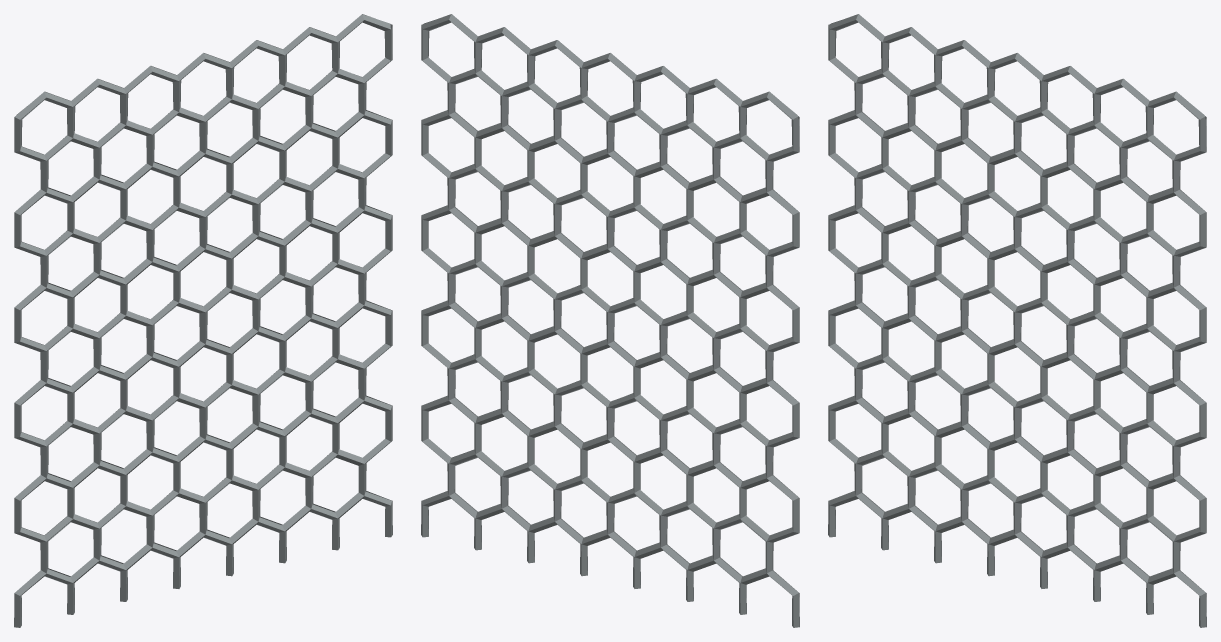
The model's file is MetalGrid.fbx.
3 views of the same model, side by side, from view 1: azimuth 30°, elevation 25°; view 2: azimuth 150°, elevation 25°; view 3: azimuth 330°, elevation 25° (orthographic).
Visible parts, largest first — view 1: Grille mesh; view 2: Grille mesh; view 3: Grille mesh.
Part boxes in pixels (left/top/right/bottom): Grille mesh: left=14, top=14, right=392, bottom=627; Grille mesh: left=421, top=14, right=799, bottom=627; Grille mesh: left=828, top=14, right=1206, bottom=627.
Size of the model in its own units: 298 by 6.26 by 398.
